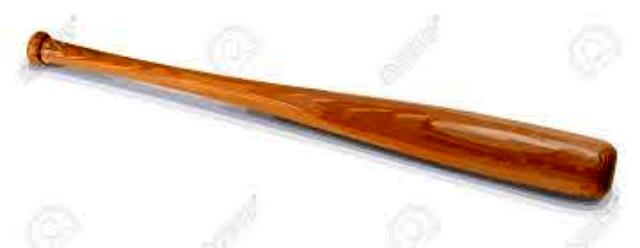baseball bat: (27, 35, 618, 203)
